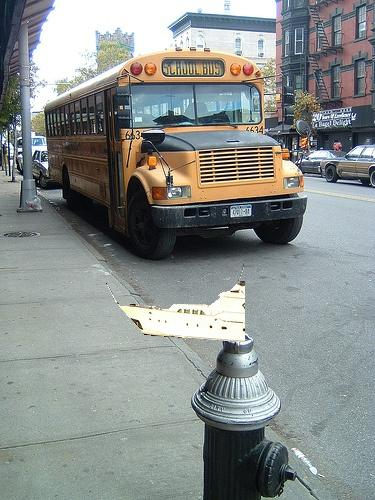tampered: (107, 265, 245, 342)
